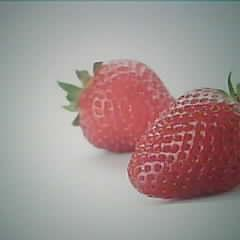straw-ripe: (128, 87, 240, 199), (80, 58, 177, 150)
